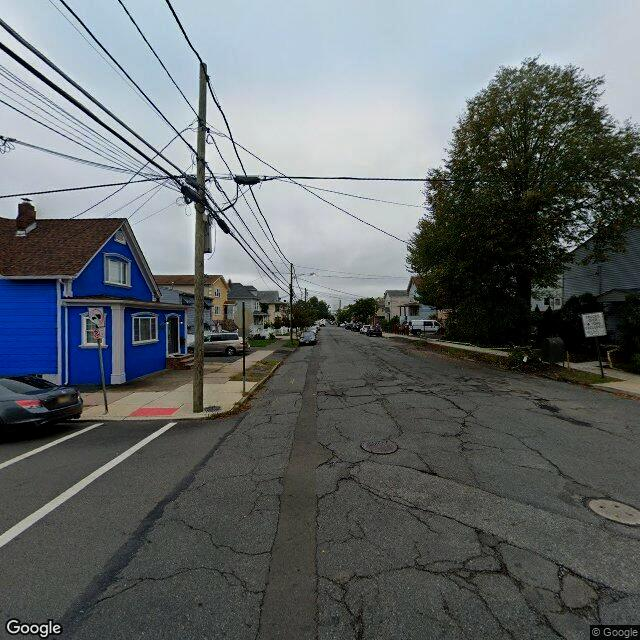pothole: (490, 557, 513, 583), (534, 399, 560, 415), (419, 467, 439, 480)
